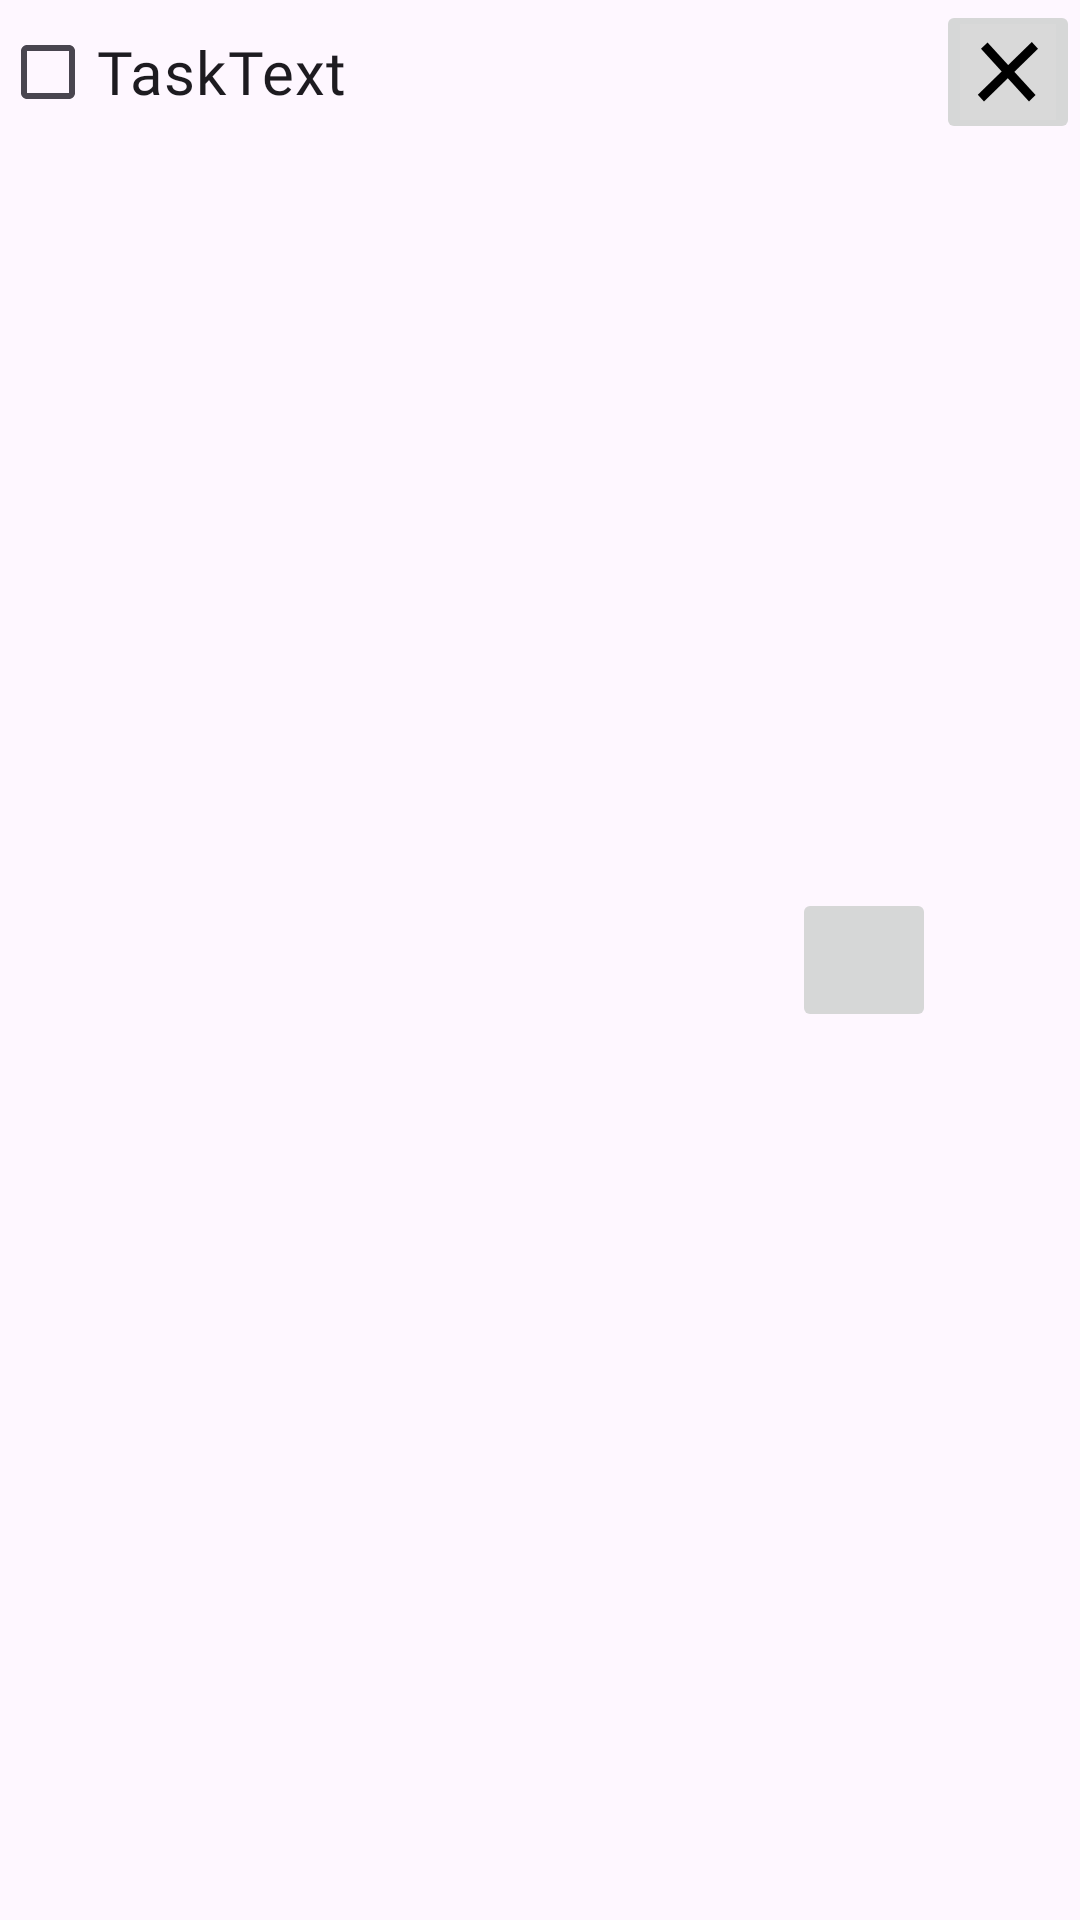

Screen size 1080w x 1920h. Icon name, then its center in pixels as (x=x, y=y):
delete: (x=1008, y=72)
